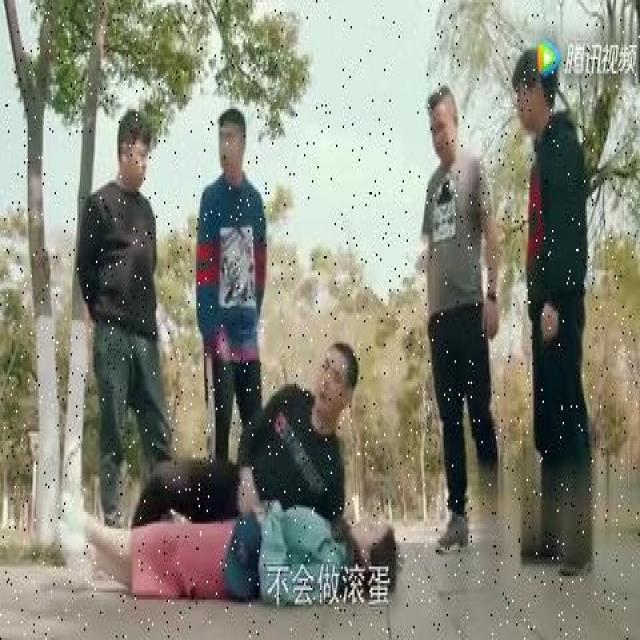fall: (51, 498, 394, 576)
